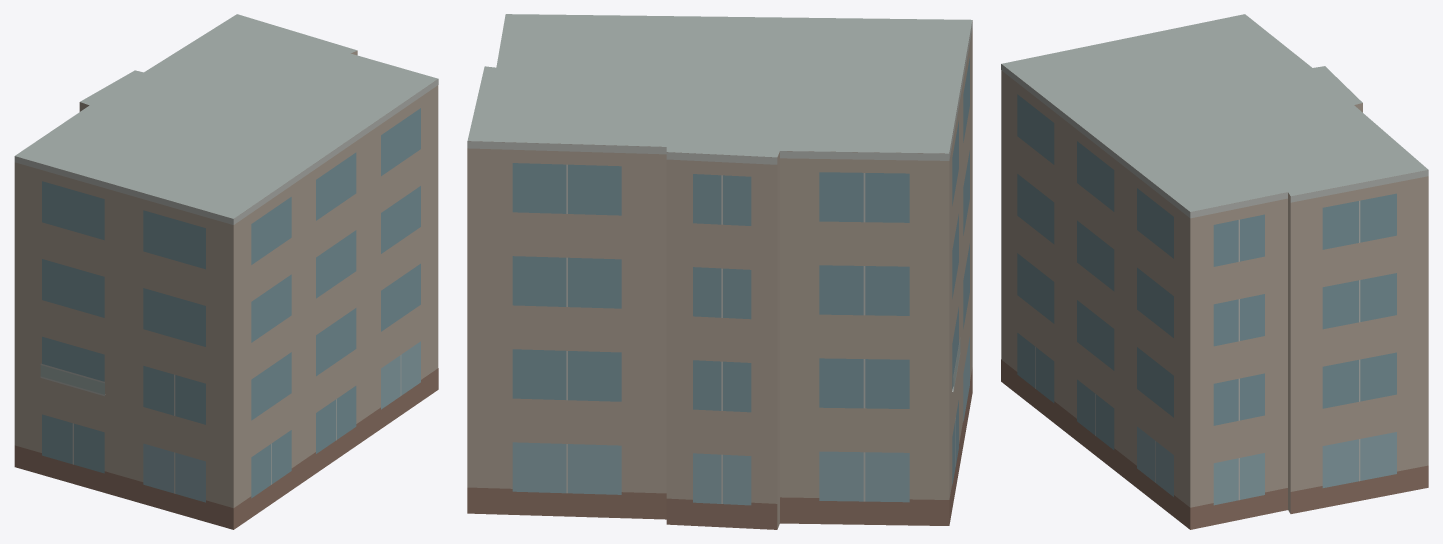
The model's file is survey-upis-32754037.glb.
3 renders of one model, left to right at view 1: azimuth 30°, elevation 25°; view 2: azimuth 150°, elevation 25°; view 3: azimuth 270°, elevation 25°, orthographic. The views are drawn at different scales.
Visible parts, largest first — view 1: survey-upis-32754037.tmp; view 2: survey-upis-32754037.tmp; view 3: survey-upis-32754037.tmp.
Boxes of the visible parts, x1,y1,x2,y2 form: survey-upis-32754037.tmp: (14, 14, 438, 529); survey-upis-32754037.tmp: (467, 14, 972, 529); survey-upis-32754037.tmp: (1001, 14, 1428, 529).
Bounding box in the file's own units: 16.31 × 12.2 × 14.88.
